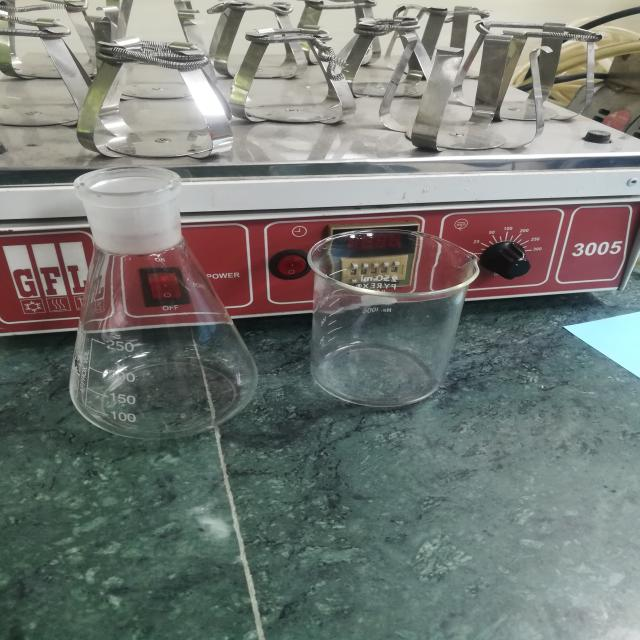Beaker: (290, 216, 506, 424)
Conical_Flask: (48, 149, 272, 466)
